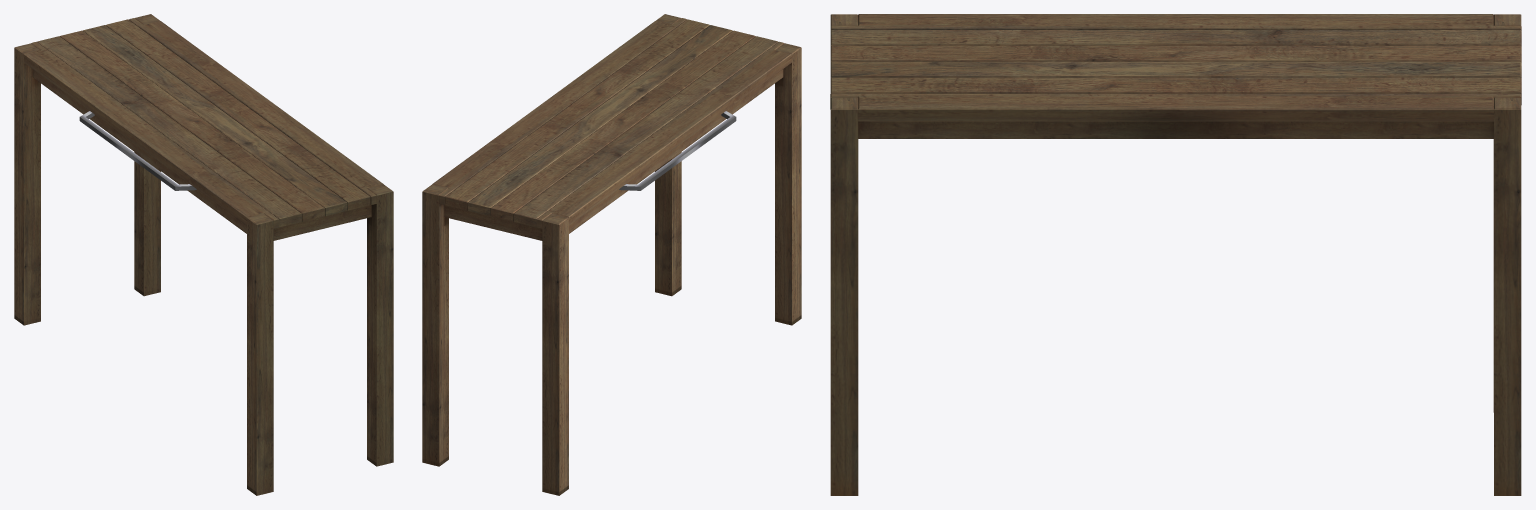
File: Wood Table.FBX
3 views of the same model, side by side, from view 1: azimuth 30°, elevation 25°; view 2: azimuth 150°, elevation 25°; view 3: azimuth 270°, elevation 25° (orthographic). The views are drawn at different scales.
Visible parts, largest first — view 1: table, Ruchka; view 2: table, Ruchka; view 3: table.
Boxes of the visible parts, box(x1,y1,x2,y2) form: table: box(14, 14, 393, 495); Ruchka: box(79, 111, 196, 190); table: box(422, 14, 801, 495); Ruchka: box(619, 111, 736, 190); table: box(830, 14, 1521, 495).
Bounding box in the file's own units: 0.6602 × 1.91 × 1.18.
